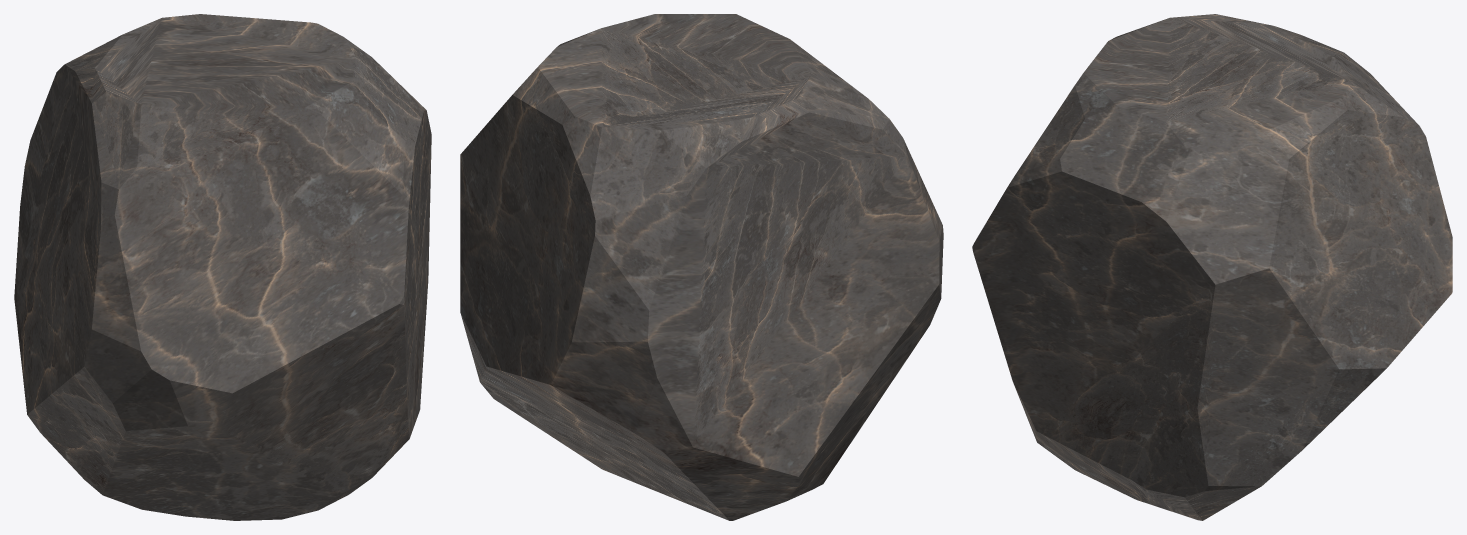
Rendered from rock.obj.
The picture shows the model from 3 angles, left to right: view 1: azimuth 30°, elevation 25°; view 2: azimuth 150°, elevation 25°; view 3: azimuth 270°, elevation 25°; orthographic projection. The views are drawn at different scales.
Parts seen in each view (by area): view 1: boulder; view 2: boulder; view 3: boulder.
Part boxes in pixels (x1,y1,x2,y2): boulder: (14, 14, 431, 520); boulder: (460, 14, 943, 520); boulder: (972, 14, 1452, 520).
Size of the model in its own units: 1.32 by 1.34 by 1.4.
Materials: 1 (1 with a texture image).
